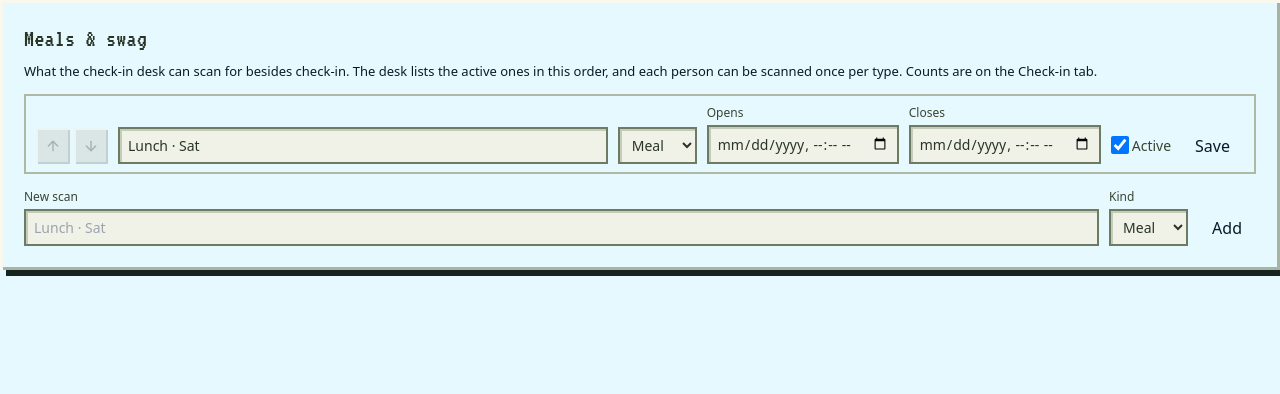
Scenario: Meals & swag card › adds a type after the last one
Type "  T-shirt " into the field with placeholder "Lunch · Sat".
click(562, 227); type("  T-shirt ")  # box [24,208,1099,246]
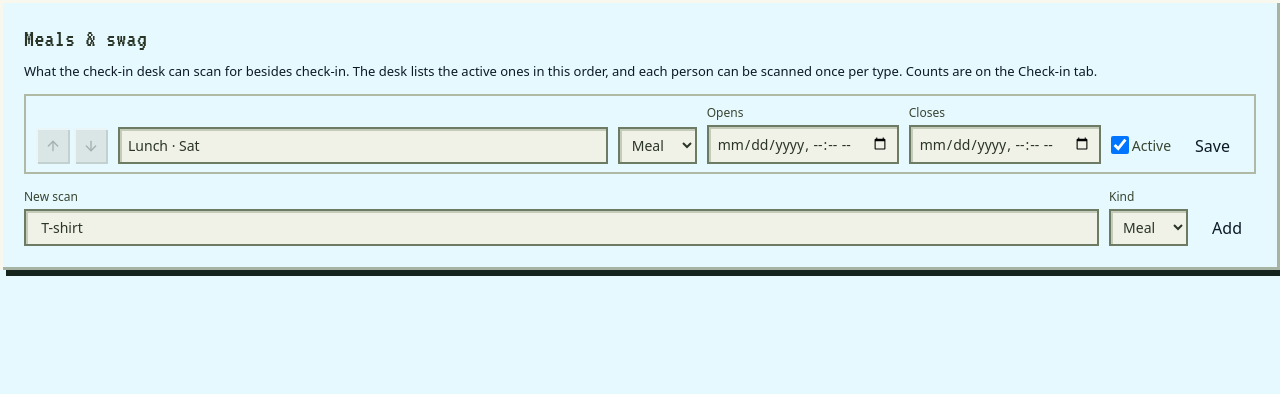
Select "Swag" in the dropdown labelled "Kind" at (1149, 227), box [1109,208,1188,246]
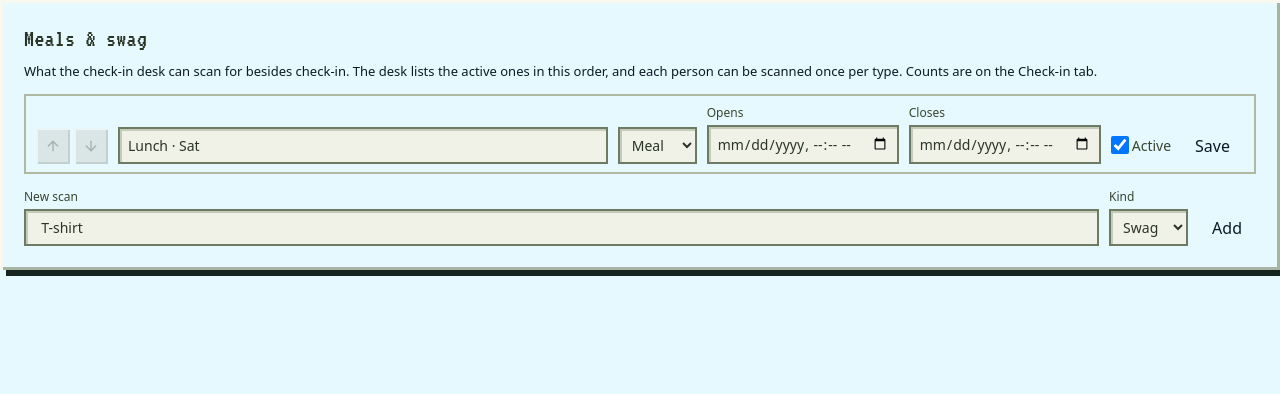
Click the button "Add".
click(1227, 228)  # box [1198,210,1256,246]
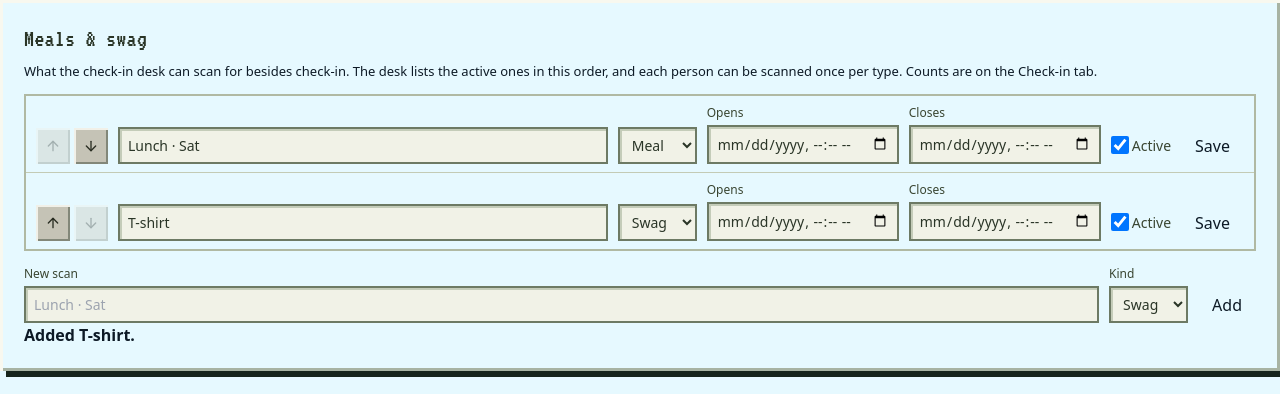
Now the text "Added T-shirt." is shown, box [24,324,135,346]
Now the form named "T-shirt" is shown, box [36,180,1244,240]
